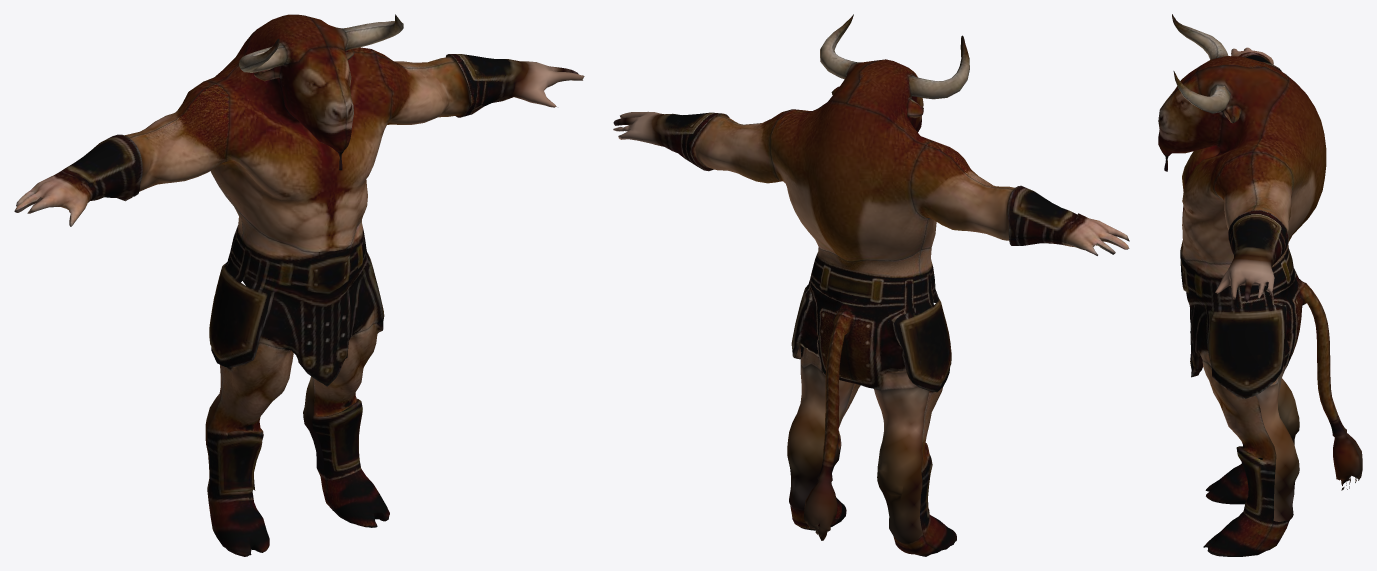
Rendered from Minotaur.glb.
3 views of the same model, side by side, from view 1: azimuth 30°, elevation 25°; view 2: azimuth 150°, elevation 25°; view 3: azimuth 270°, elevation 25° (orthographic). The views are drawn at different scales.
Parts seen in each view (by area): view 1: Mesh0; view 2: Mesh0; view 3: Mesh0.
Part boxes in pixels (x1,y1,x2,y2): Mesh0: [14, 14, 584, 556]; Mesh0: [613, 14, 1129, 556]; Mesh0: [1158, 14, 1362, 556].
Size of the model in its own units: 1.88 by 1.69 by 0.6463.
Materials: 1 (1 with a texture image).
